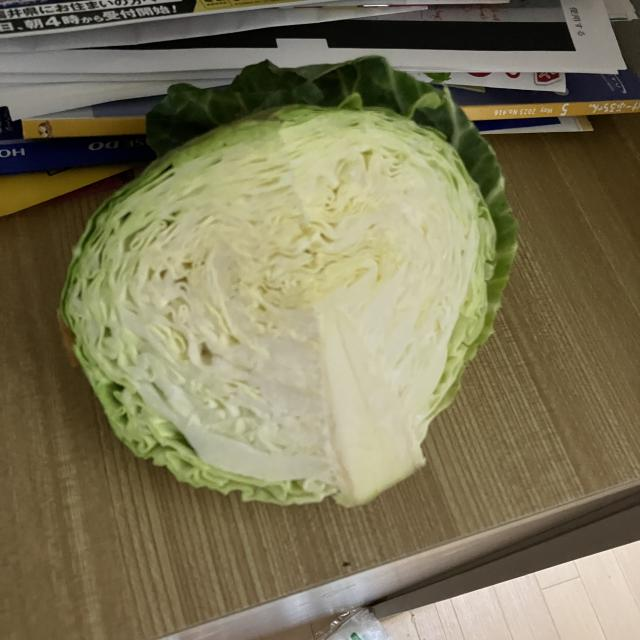haft-cabbage: (51, 56, 523, 508)
